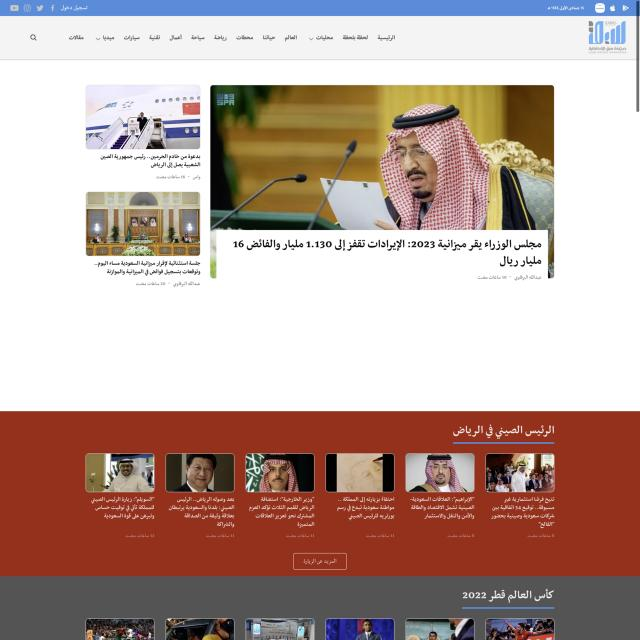logo: (584, 18, 631, 57)
navigation: (65, 29, 401, 46)
